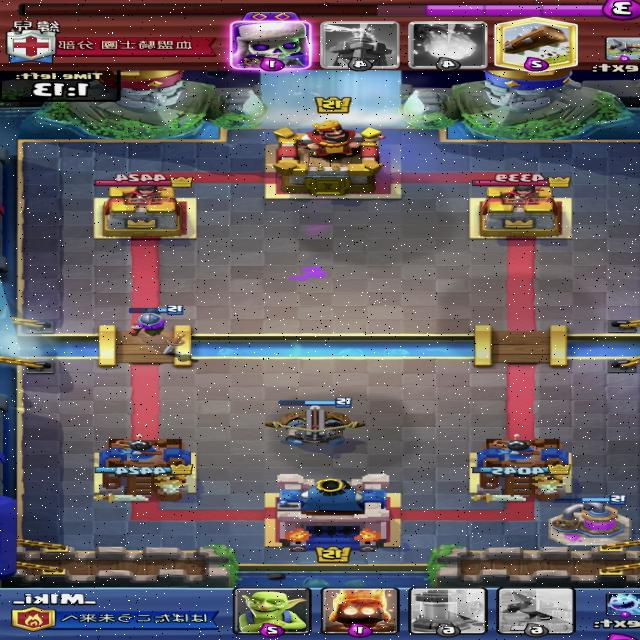Player-ElixirPump: (546, 494, 633, 548)
Player-Musketeer: (129, 303, 184, 339)
Player-XBow: (262, 398, 367, 445)
